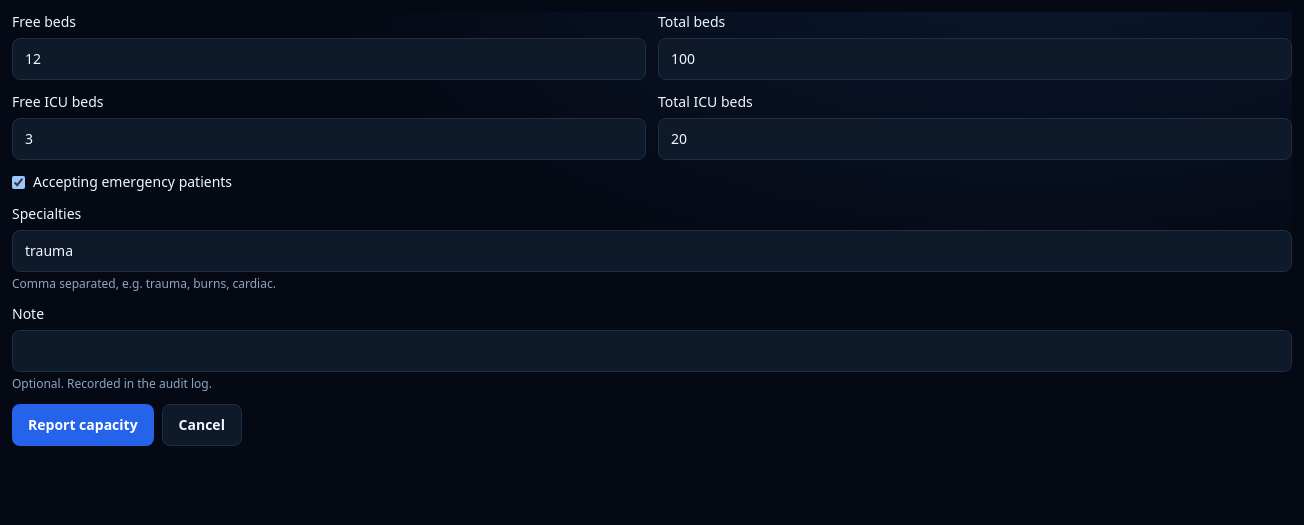
CapacityForm › does not send an empty report
The width and height of the screenshot is (1304, 525).
Click the button "Report capacity": (83, 425) [12,404,154,446]
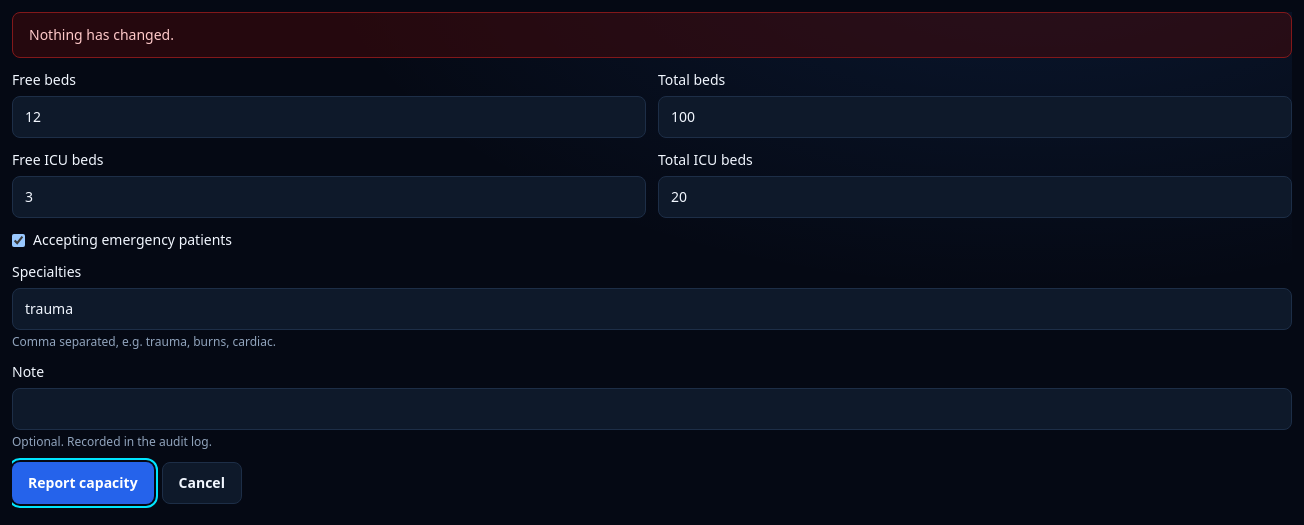
Expected: the text "Nothing has changed." is shown, [12,12,1292,58]
